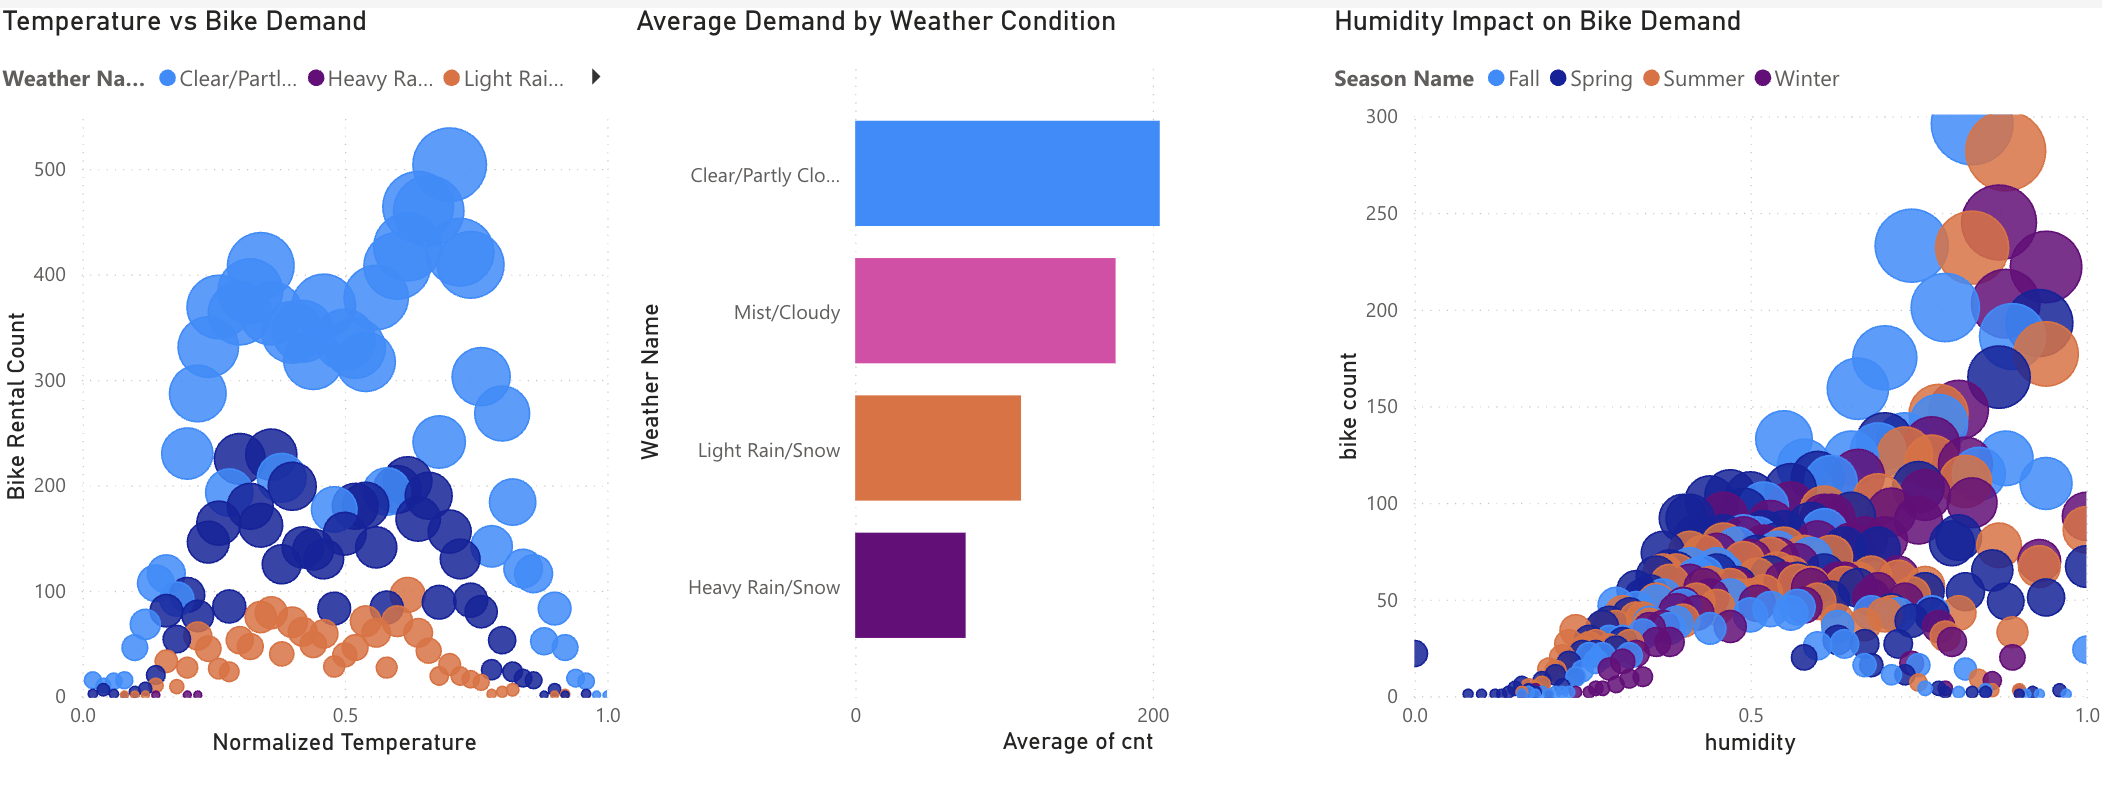

This screenshot's page, from the dashboard's own definition file:
{"tool":"powerbi","page":{"name":"WEATHER IMPACT","canvas":[1280,720],"ordinal":2},"visuals":[{"type":"scatterChart","title":"Temperature vs Bike Demand","fields":{"X":["bike_sharing_clean.temp"],"Y":["CountNonNull(bike_sharing_clean.cnt)"],"Size":["CountNonNull(bike_sharing_clean.cnt)"],"Series":["bike_sharing_clean.Weather Name"]},"box":[0,0,384.2,456.9],"z":0},{"type":"barChart","title":"Average Demand by Weather Condition","fields":{"Category":["bike_sharing_clean.Weather Name"],"Y":["Avg(bike_sharing_clean.cnt)"]},"box":[384.2,0,422.6,456.9],"z":1},{"type":"scatterChart","title":"Humidity Impact on Bike Demand","fields":{"X":["bike_sharing_clean.hum"],"Y":["CountNonNull(bike_sharing_clean.cnt)"],"Size":["CountNonNull(bike_sharing_clean.temp)"],"Series":["bike_sharing_clean.Season Name"]},"box":[806.9,0,473.4,456.9],"z":2}]}

Visuals, with their boxes on the page's 1280x720 design canvas (x1, y1, x2, y2). These are canvas units, not pixel positions in the 2102x806 screenshot, which may show the page scaled, cropped or inside an application window:
"Temperature vs Bike Demand" scatterChart: bbox=(0, 0, 384, 457)
"Average Demand by Weather Condition" barChart: bbox=(384, 0, 807, 457)
"Humidity Impact on Bike Demand" scatterChart: bbox=(807, 0, 1280, 457)
